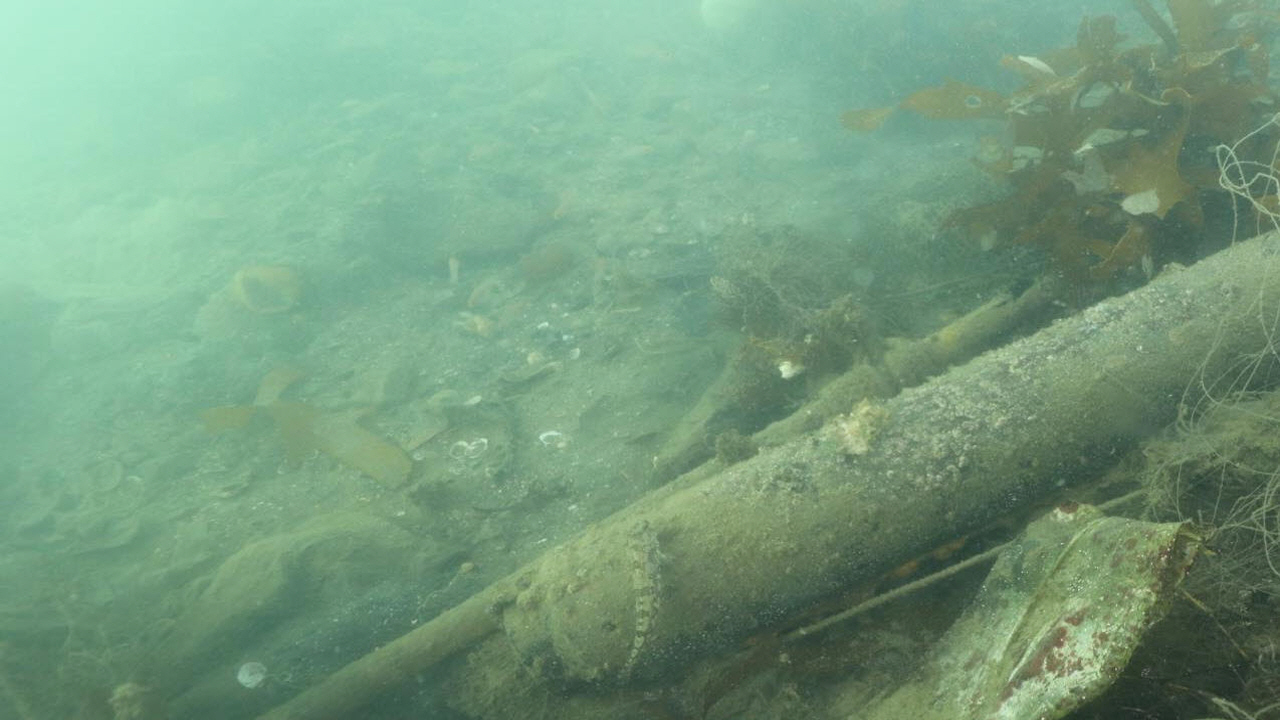eel fish trap: (498, 225, 1279, 700)
